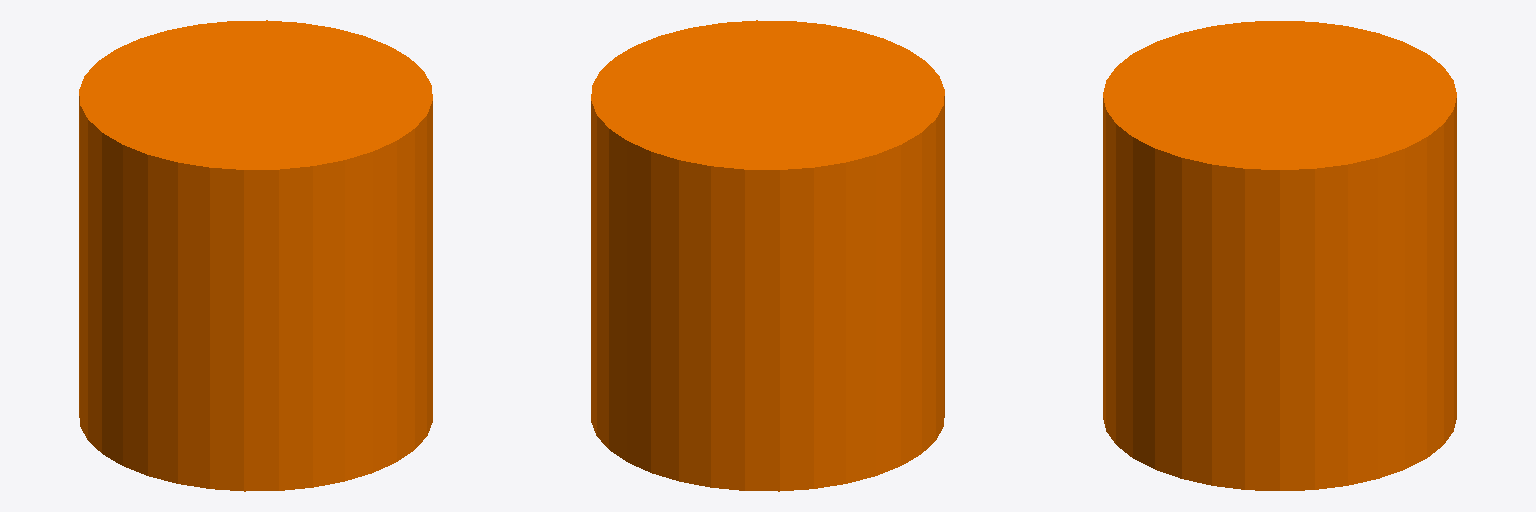
URDF robot description (pringles):
<?xml version="1.0"?>
<robot name="pringles">

  <material name="red">
    <color rgba="1 0.5 0.0 1"/>
  </material>

  <link name="base_link">
    <visual>
      <geometry>
        <cylinder length="0.1" radius="0.05"/>
      </geometry>
      <material name="red"/>
    </visual>
    <collision>
      <geometry>
        <cylinder length="0.15" radius="0.04"/>
      </geometry>
    </collision>
    <inertial>
      <origin rpy="0 0 0" xyz="0 0 0"/>
      <mass value="1.0"/>
      <inertia ixx="0.001" ixy="0" ixz="0" iyy="0.001" iyz="0" izz="0.001"/>
    </inertial>
  </link>

</robot>

--- Render facts (derived) ---
Views: 3 orthographic renders of the robot side by side, from view 1: azimuth 30°, elevation 25°; view 2: azimuth 150°, elevation 25°; view 3: azimuth 270°, elevation 25°.
Model pringles with 1 links and 0 joints (none), rooted at base_link, posed every joint at zero.
Visible links, largest first — view 1: base_link; view 2: base_link; view 3: base_link.
Link boxes in pixels (x1,y1,x2,y2): base_link: (79, 20, 432, 491); base_link: (591, 20, 944, 491); base_link: (1103, 21, 1456, 490).
Bounding box of the posed robot: 0.1 × 0.1 × 0.1 m (x, y, z).
Geometry: primitives only (box / cylinder / sphere), no mesh files.